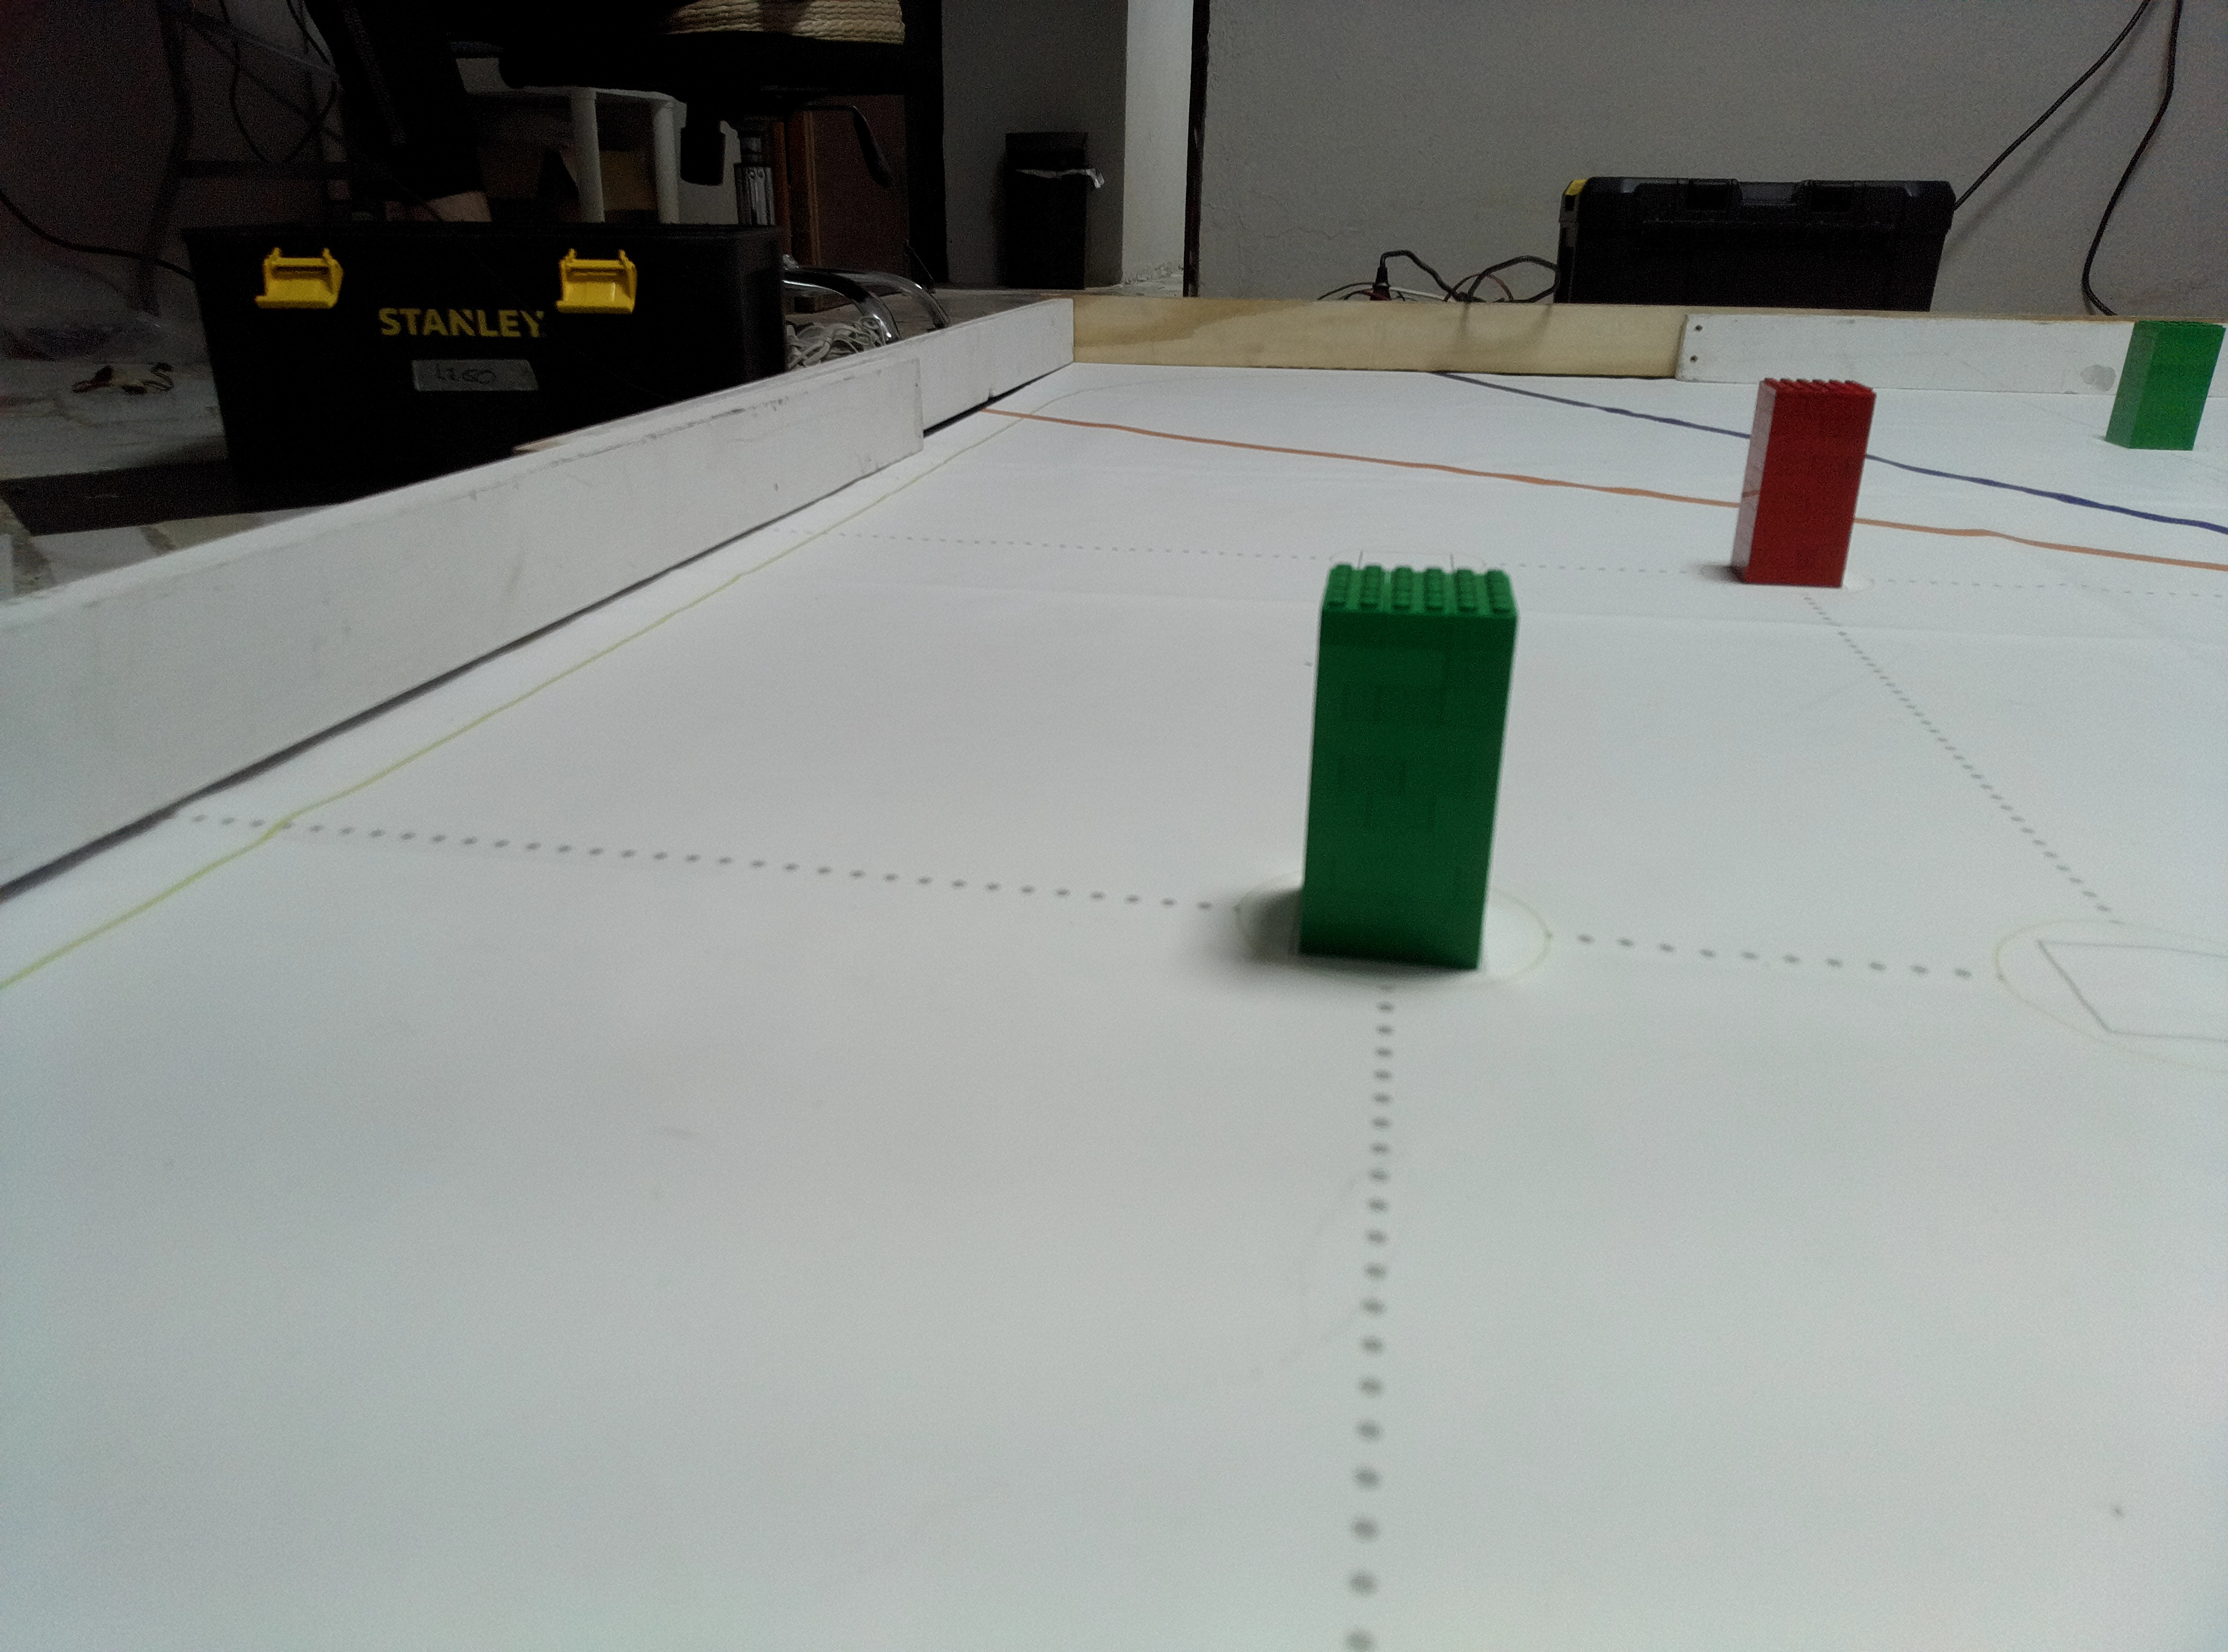greenbox: (1296, 564, 1527, 977), (2103, 319, 2226, 451)
redbox: (1728, 378, 1877, 592)
